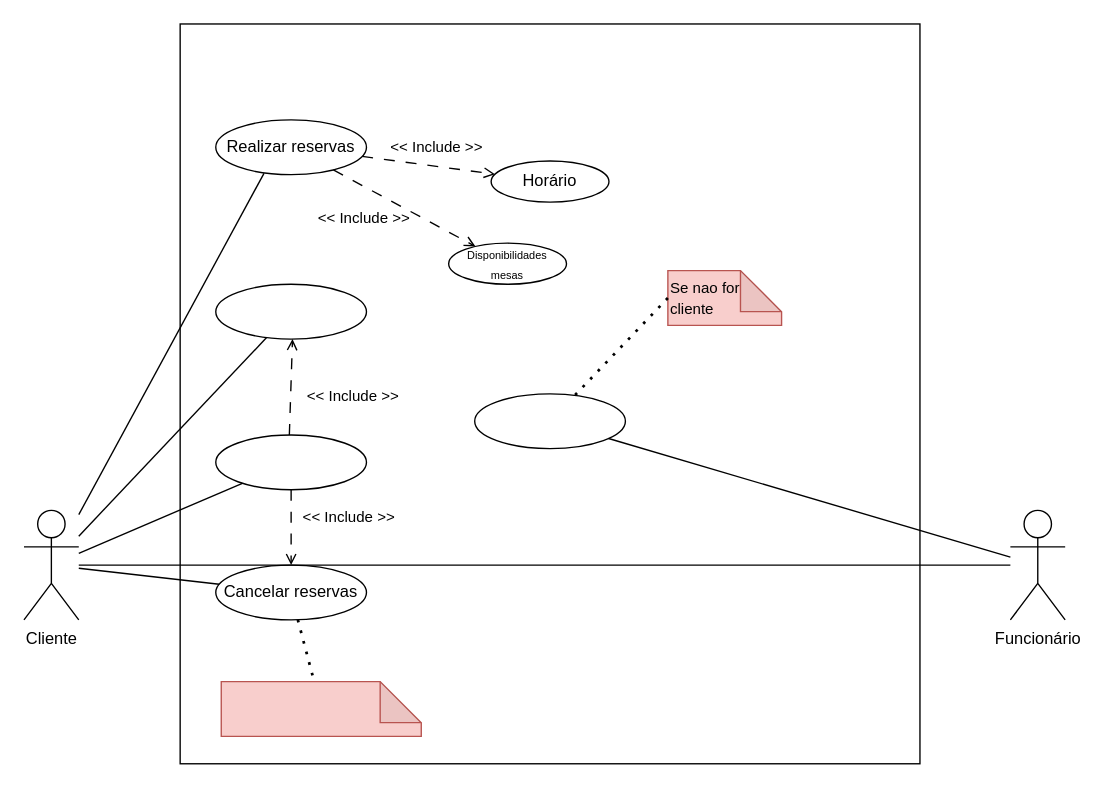
Image size: 1104x788. Some labels were removed from this diagram. Here are the shapes that lost their labels. From the top down, the centre of each, then its label:
At point (290, 311): "Atualizar reservas".
At point (549, 421): "Gerenciar mesas".
At point (290, 462): "Visualizar Reservas".
At point (320, 708): "Se estiver dentro do prazo de 24hrs".
